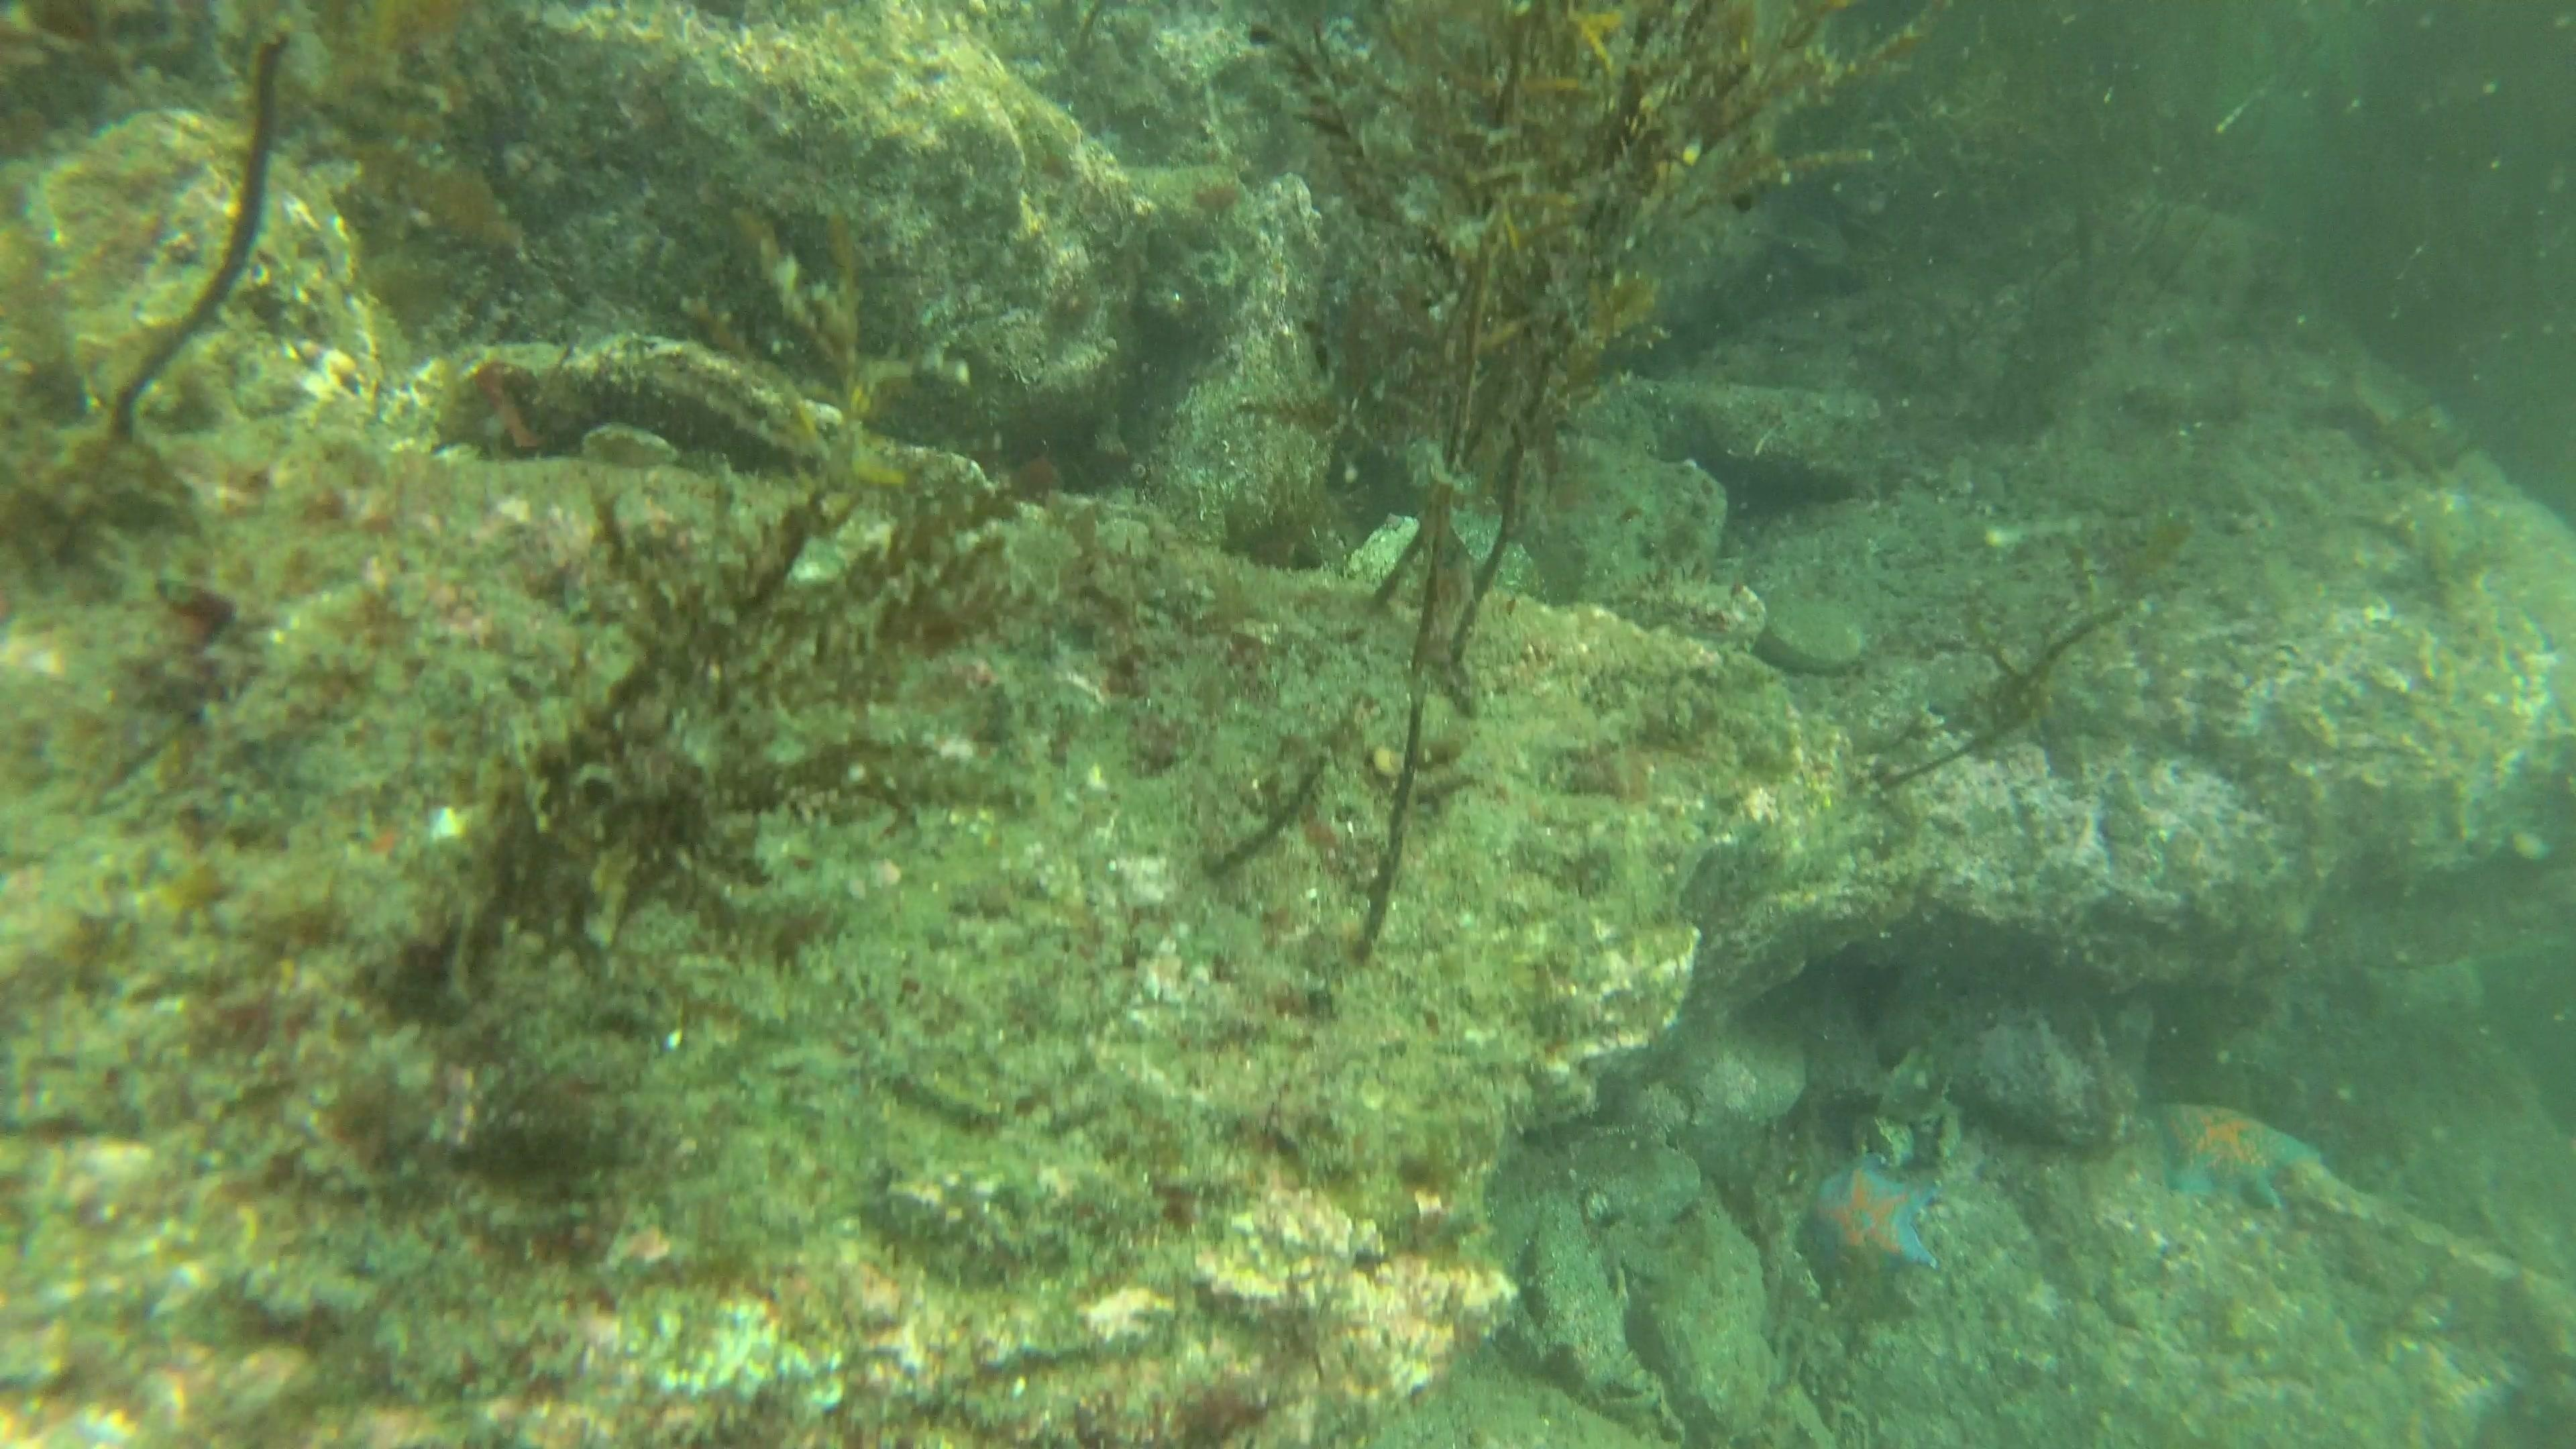starfish: (2137, 1088, 2334, 1221), (1787, 1141, 1948, 1299)
